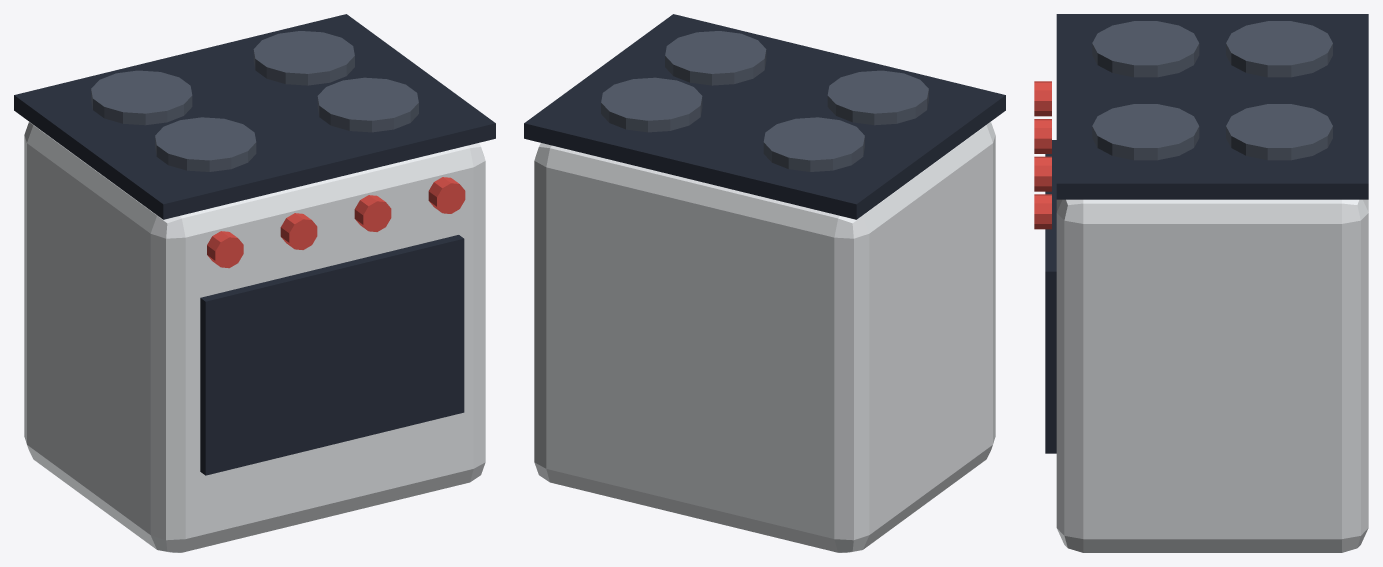
File: Kitchen_Stove.fbx
The picture shows the model from 3 angles, left to right: view 1: azimuth 30°, elevation 25°; view 2: azimuth 150°, elevation 25°; view 3: azimuth 270°, elevation 25°; orthographic projection. The views are drawn at different scales.
Parts seen in each view (by area): view 1: Stove; view 2: Stove; view 3: Stove.
Part boxes in pixels (box(x1,y1,x2,y2)): Stove: box(14, 14, 495, 552); Stove: box(524, 14, 1005, 552); Stove: box(1034, 14, 1368, 552).
Size of the model in its own units: 0.9 by 0.975 by 0.75.
